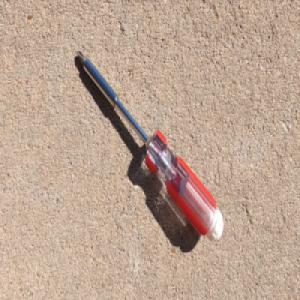Screwdriver: (76, 48, 224, 243)
